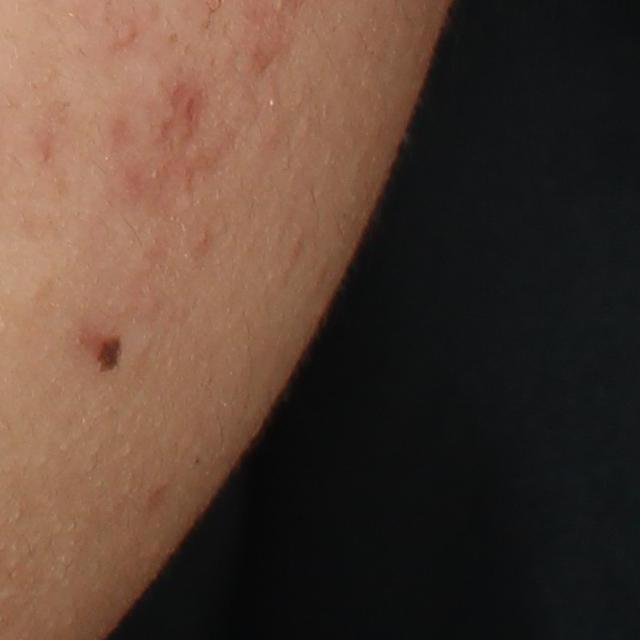nevus: (92, 333, 123, 378)
